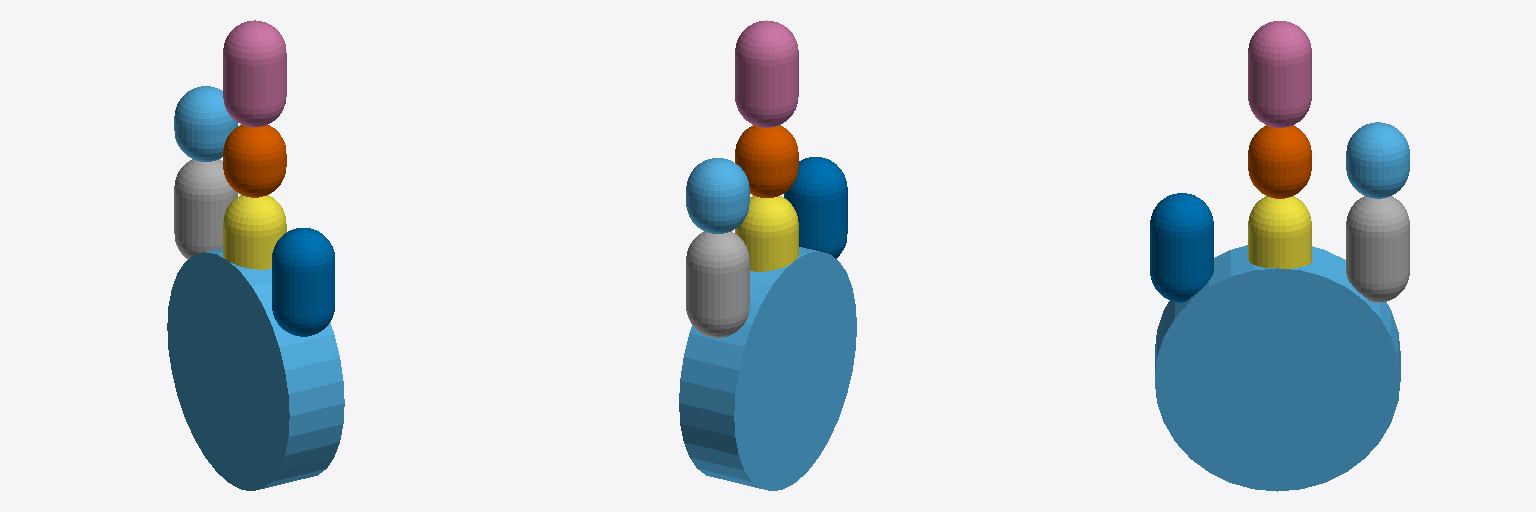
URDF robot description (DexterousHand):
<?xml version="1.0"?>
<robot name="DexterousHand">


    <link name="world"/>
    <joint name="world_to_palm" type="fixed">
        <parent link="world"/>
        <child link="palm"/>
        <origin xyz="0 0 0" rpy="0 0 0"/>
    </joint>
    <link name="palm">
        <inertial>
            <origin xyz="0 0 0.057" rpy="0 0 0"/>
            <mass value="0.30212892864"/>
            <inertia ixx="0.00049080844457568" ixy="0.0" ixz="0.0" iyy="0.00026746366246427523" iyz="0.0" izz="0.00026746366246427523"/>
        </inertial>
        <visual>
            <origin xyz="0 0 0.057" rpy="1.5708 0 1.5708"/>
            <geometry>
                <cylinder radius="0.057" length="0.0296"/>
            </geometry>
            <material name="default"/>
        </visual>
        <collision>
            <origin xyz="0 0 0.057" rpy="1.5708 0 1.5708"/>
            <geometry>
                <cylinder radius="0.057" length="0.0296"/>
            </geometry>
        </collision>
    </link>

    
    <joint name="thumb_joint1" type="revolute">
        <parent link="palm"/>
        <child link="thumb_base"/>
        <origin xyz="0.0 0.0 0.0" rpy="0.0 0.0 0.0"/>
        <axis xyz="1 0 0"/>
        <limit lower="0.0" upper="0.0" effort="1.0" velocity="1.0"/>
    </joint>

    <link name="thumb_base"></link>

    <joint name="thumb_joint2" type="revolute">
        <parent link="thumb_base"/>
        <child link="thumb_proximal"/>
        <origin xyz="0.0 0.0 0.0" rpy="0.0 0.0 0.0"/>
        <axis xyz="0 1 0"/>
        <limit lower="0.0" upper="0.0" effort="1.0" velocity="1.0"/>
    </joint>

    <link name="thumb_proximal">
    </link>

    <joint name="thumb_joint3" type="revolute">
        <parent link="thumb_proximal"/>
        <child link="thumb_knuckle"/>
        <origin xyz="0.0 0.0 0.0" rpy="0.0 0.0 0.0"/>
        <axis xyz="1 0 0"/>
        <limit lower="0.0" upper="0.0" effort="1.0" velocity="1.0"/>
    </joint>

    <link name="thumb_knuckle"></link>

    <joint name="thumb_joint4" type="revolute">
        <parent link="thumb_knuckle"/>
        <child link="thumb_middle"/>
        <origin xyz="0 0 0" rpy="0 0 0"/> 
        <axis xyz="0 1 0"/>
        <limit lower="0.0" upper="0.0" effort="1.0" velocity="1.0"/>
    </joint>

    <link name="thumb_middle">
    </link>

    <joint name="thumb_joint5" type="revolute">
        <parent link="thumb_middle"/>
        <child link="thumb_distal"/>
        <origin xyz="0 0 0" rpy="0 0 0"/> 
        <axis xyz="0 1 0"/>
        <limit lower="0.0" upper="0.0" effort="1.0" velocity="1.0"/>
    </joint>

    <link name="thumb_distal">
    </link>

    
    <joint name="index_joint1" type="revolute">
        <parent link="palm"/>
        <child link="index_proximal"/>
        <origin xyz="0.0 0.0465 0.091" rpy="0.0 0.0 0.0"/>
        <axis xyz="0 1 0"/>
        <limit lower="-0.314" upper="2.23" effort="1.0" velocity="1.0"/>
    </joint>

    <link name="index_proximal">
        <inertial>
            <origin xyz="0 0 0.02655" rpy="0 0 0"/>
            <mass value="0.036540024998400006"/>
            <inertia ixx="1.058665009272394e-05" ixy="0.0" ixz="0.0" 
            iyy="1.058665009272394e-05" iyz="0.0" izz="4.001863537824769e-06"/>
        </inertial>
        <visual>
            <origin xyz="0 0 0.02655" rpy="0 0 0"/>
            <geometry>
                <cylinder radius="0.0148" length="0.0235"/>
            </geometry>
            <material name="default"/>
        </visual>
        <visual>
            <origin xyz="0 0 0.0148" rpy="0 0 0"/>
            <geometry>
                <sphere radius="0.0148"/>
            </geometry>
            <material name="default"/>
        </visual>
        <visual>
            <origin xyz="0 0 0.0383" rpy="0 0 0"/>
            <geometry>
                <sphere radius="0.0148"/>
            </geometry>
            <material name="default"/>
        </visual>
        <collision>
            <origin xyz="0 0 0.02655" rpy="0 0 0"/>
            <geometry>
                <cylinder radius="0.0148" length="0.0235"/>
            </geometry>
        </collision>
        <collision>
            <origin xyz="0 0 0.0148" rpy="0 0 0"/>
            <geometry>
                <sphere radius="0.0148"/>
            </geometry>
        </collision>
        <collision>
            <origin xyz="0 0 0.0383" rpy="0 0 0"/>
            <geometry>
                <sphere radius="0.0148"/>
            </geometry>
        </collision>
    </link>

    <joint name="index_joint2" type="revolute">
        <parent link="index_proximal"/>
        <child link="index_dummy"/>
        <origin xyz="0.0 0.0 0.038" rpy="0.0 0.0 0.0"/>
        <axis xyz="1 0 0"/>
        <limit lower="-1.047" upper="1.047" effort="1.0" velocity="1.0"/>
    </joint>

    <link name="index_dummy"></link>

    <joint name="index_joint3" type="revolute">
        <parent link="index_dummy"/>
        <child link="index_middle"/>
        <origin xyz="0 0 0.015100000000000002" rpy="0 0 0"/>
        <axis xyz="0 1 0"/>
        <limit lower="-0.506" upper="1.885" effort="1.0" velocity="1.0"/>
    </joint>

    <link name="index_middle">
        <inertial>
            <origin xyz="0 0 0.01805" rpy="0 0 0"/>
            <mass value="0.0248417119104"/>
            <inertia ixx="4.058162759109537e-06" ixy="0.0" ixz="0.0" 
            iyy="4.058162759109537e-06" iyz="0.0" izz="2.7206642884270085e-06"/>
        </inertial>
        <visual>
            <origin xyz="0 0 0.01805" rpy="0 0 0"/>
            <geometry>
                <cylinder radius="0.0148" length="0.006499999999999999"/>
            </geometry>
            <material name="default"/>
        </visual>
        <visual>
            <origin xyz="0 0 0.0148" rpy="0 0 0"/>
            <geometry>
                <sphere radius="0.0148"/>
            </geometry>
            <material name="default"/>
        </visual>
        <visual>
            <origin xyz="0 0 0.0213" rpy="0 0 0"/>
            <geometry>
                <sphere radius="0.0148"/>
            </geometry>
            <material name="default"/>
        </visual>
        <collision>
            <origin xyz="0 0 0.01805" rpy="0 0 0"/>
            <geometry>
                <cylinder radius="0.0148" length="0.006499999999999999"/>
            </geometry>
        </collision>
        <collision>
            <origin xyz="0 0 0.0148" rpy="0 0 0"/>
            <geometry>
                <sphere radius="0.0148"/>
            </geometry>
        </collision>
        <collision>
            <origin xyz="0 0 0.0213" rpy="0 0 0"/>
            <geometry>
                <sphere radius="0.0148"/>
            </geometry>
        </collision>
    </link>

    <joint name="index_joint4" type="revolute">
        <parent link="index_middle"/>
        <child link="index_distal"/>
        <origin xyz="0 0 0.0361" rpy="0 0 0"/> 
        <axis xyz="0 1 0"/>
        <limit lower="0.0" upper="0.0" effort="1.0" velocity="1.0"/>
    </joint>

    <link name="index_distal">
    </link>

    
    <joint name="middle_joint1" type="revolute">
        <parent link="palm"/>
        <child link="middle_proximal"/>
        <origin xyz="0.0 0.0011 0.091" rpy="0.0 0.0 0.0"/>
        <axis xyz="0 1 0"/>
        <limit lower="-0.314" upper="2.23" effort="1.0" velocity="1.0"/>
    </joint>

    <link name="middle_proximal">
        <inertial>
            <origin xyz="0 0 0.02655" rpy="0 0 0"/>
            <mass value="0.036540024998400006"/>
            <inertia ixx="1.058665009272394e-05" ixy="0.0" ixz="0.0" 
            iyy="1.058665009272394e-05" iyz="0.0" izz="4.001863537824769e-06"/>
        </inertial>
        <visual>
            <origin xyz="0 0 0.02655" rpy="0 0 0"/>
            <geometry>
                <cylinder radius="0.0148" length="0.0235"/>
            </geometry>
            <material name="default"/>
        </visual>
        <visual>
            <origin xyz="0 0 0.0148" rpy="0 0 0"/>
            <geometry>
                <sphere radius="0.0148"/>
            </geometry>
            <material name="default"/>
        </visual>
        <visual>
            <origin xyz="0 0 0.0383" rpy="0 0 0"/>
            <geometry>
                <sphere radius="0.0148"/>
            </geometry>
            <material name="default"/>
        </visual>
        <collision>
            <origin xyz="0 0 0.02655" rpy="0 0 0"/>
            <geometry>
                <cylinder radius="0.0148" length="0.0235"/>
            </geometry>
        </collision>
        <collision>
            <origin xyz="0 0 0.0148" rpy="0 0 0"/>
            <geometry>
                <sphere radius="0.0148"/>
            </geometry>
        </collision>
        <collision>
            <origin xyz="0 0 0.0383" rpy="0 0 0"/>
            <geometry>
                <sphere radius="0.0148"/>
            </geometry>
        </collision>
    </link>

    <joint name="middle_joint2" type="revolute">
        <parent link="middle_proximal"/>
        <child link="middle_dummy"/>
        <origin xyz="0.0 0.0 0.038" rpy="0.0 0.0 0.0"/>
        <axis xyz="1 0 0"/>
        <limit lower="-1.047" upper="1.047" effort="1.0" velocity="1.0"/>
    </joint>

    <link name="middle_dummy"></link>

    <joint name="middle_joint3" type="revolute">
        <parent link="middle_dummy"/>
        <child link="middle_middle"/>
        <origin xyz="0 0 0.015100000000000002" rpy="0 0 0"/>
        <axis xyz="0 1 0"/>
        <limit lower="-0.506" upper="1.885" effort="1.0" velocity="1.0"/>
    </joint>

    <link name="middle_middle">
        <inertial>
            <origin xyz="0 0 0.01805" rpy="0 0 0"/>
            <mass value="0.0248417119104"/>
            <inertia ixx="4.058162759109537e-06" ixy="0.0" ixz="0.0" 
            iyy="4.058162759109537e-06" iyz="0.0" izz="2.7206642884270085e-06"/>
        </inertial>
        <visual>
            <origin xyz="0 0 0.01805" rpy="0 0 0"/>
            <geometry>
                <cylinder radius="0.0148" length="0.006499999999999999"/>
            </geometry>
            <material name="default"/>
        </visual>
        <visual>
            <origin xyz="0 0 0.0148" rpy="0 0 0"/>
            <geometry>
                <sphere radius="0.0148"/>
            </geometry>
            <material name="default"/>
        </visual>
        <visual>
            <origin xyz="0 0 0.0213" rpy="0 0 0"/>
            <geometry>
                <sphere radius="0.0148"/>
            </geometry>
            <material name="default"/>
        </visual>
        <collision>
            <origin xyz="0 0 0.01805" rpy="0 0 0"/>
            <geometry>
                <cylinder radius="0.0148" length="0.006499999999999999"/>
            </geometry>
        </collision>
        <collision>
            <origin xyz="0 0 0.0148" rpy="0 0 0"/>
            <geometry>
                <sphere radius="0.0148"/>
            </geometry>
        </collision>
        <collision>
            <origin xyz="0 0 0.0213" rpy="0 0 0"/>
            <geometry>
                <sphere radius="0.0148"/>
            </geometry>
        </collision>
    </link>

    <joint name="middle_joint4" type="revolute">
        <parent link="middle_middle"/>
        <child link="middle_distal"/>
        <origin xyz="0 0 0.0361" rpy="0 0 0"/> 
        <axis xyz="0 1 0"/>
        <limit lower="-0.366" upper="2.042" effort="1.0" velocity="1.0"/>
    </joint>

    <link name="middle_distal">
        <inertial>
            <origin xyz="0 0 0.026" rpy="0 0 0"/>
            <mass value="0.035783075328"/>
            <inertia ixx="1.002260084553728e-05" ixy="0.0" ixz="0.0" 
            iyy="1.002260084553728e-05" iyz="0.0" izz="3.91896240992256e-06"/>
        </inertial>
        <visual>
            <origin xyz="0 0 0.026" rpy="0 0 0"/>
            <geometry>
                <cylinder radius="0.0148" length="0.022399999999999996"/>
            </geometry>
            <material name="default"/>
        </visual>
        <visual>
            <origin xyz="0 0 0.0148" rpy="0 0 0"/>
            <geometry>
                <sphere radius="0.0148"/>
            </geometry>
            <material name="default"/>
        </visual>
        <visual>
            <origin xyz="0 0 0.0372" rpy="0 0 0"/>
            <geometry>
                <sphere radius="0.0148"/>
            </geometry>
            <material name="default"/>
        </visual>
        <collision>
            <origin xyz="0 0 0.026" rpy="0 0 0"/>
            <geometry>
                <cylinder radius="0.0148" length="0.022399999999999996"/>
            </geometry>
        </collision>
        <collision>
            <origin xyz="0 0 0.0148" rpy="0 0 0"/>
            <geometry>
                <sphere radius="0.0148"/>
            </geometry>
        </collision>
        <collision>
            <origin xyz="0 0 0.0372" rpy="0 0 0"/>
            <geometry>
                <sphere radius="0.0148"/>
            </geometry>
        </collision>
    </link>

    
    <joint name="ring_joint1" type="revolute">
        <parent link="palm"/>
        <child link="ring_proximal"/>
        <origin xyz="0.0 0.0 0.0" rpy="0.0 0.0 0.0"/>
        <axis xyz="1 0 0"/>
        <limit lower="0.0" upper="0.0" effort="1.0" velocity="1.0"/>
    </joint>

    <link name="ring_proximal">
    </link>

    <joint name="ring_joint2" type="revolute">
        <parent link="ring_proximal"/>
        <child link="ring_dummy"/>
        <origin xyz="0.0 0.0 0.0" rpy="0.0 0.0 0.0"/>
        <axis xyz="0 1 0"/>
        <limit lower="0.0" upper="0.0" effort="1.0" velocity="1.0"/>
    </joint>

    <link name="ring_dummy"></link>

    <joint name="ring_joint3" type="revolute">
        <parent link="ring_dummy"/>
        <child link="ring_middle"/>
        <origin xyz="0 0 0" rpy="0 0 0"/>
        <axis xyz="0 1 0"/>
        <limit lower="0.0" upper="0.0" effort="1.0" velocity="1.0"/>
    </joint>

    <link name="ring_middle">
    </link>

    <joint name="ring_joint4" type="revolute">
        <parent link="ring_middle"/>
        <child link="ring_distal"/>
        <origin xyz="0 0 0" rpy="0 0 0"/> 
        <axis xyz="0 1 0"/>
        <limit lower="0.0" upper="0.0" effort="1.0" velocity="1.0"/>
    </joint>

    <link name="ring_distal">
    </link>

    
    <joint name="little_joint0" type="revolute">
        <parent link="palm"/>
        <child link="little_base"/>
        <origin xyz="0.0 0.0 0.0" rpy="0.0 0.0 0.0"/>
        <axis xyz="0 1 0"/>
        <limit lower="0.0" upper="0.0" effort="1.0" velocity="1.0"/>
    </joint>

    <link name="little_base"></link>

    <joint name="little_joint1" type="revolute">
        <parent link="little_base"/>
        <child link="little_proximal"/>
        <origin xyz="0.0 -0.0443 0.091" rpy="-0.0 -0.0 -0.0"/>
        <axis xyz="0 1 0"/>
        <limit lower="-0.314" upper="2.23" effort="1.0" velocity="1.0"/>
    </joint>

    <link name="little_proximal">
        <inertial>
            <origin xyz="0 0 0.02655" rpy="0 0 0"/>
            <mass value="0.036540024998400006"/>
            <inertia ixx="1.058665009272394e-05" ixy="0.0" ixz="0.0" 
            iyy="1.058665009272394e-05" iyz="0.0" izz="4.001863537824769e-06"/>
        </inertial>
        <visual>
            <origin xyz="0 0 0.02655" rpy="0 0 0"/>
            <geometry>
                <cylinder radius="0.0148" length="0.0235"/>
            </geometry>
            <material name="default"/>
        </visual>
        <visual>
            <origin xyz="0 0 0.0148" rpy="0 0 0"/>
            <geometry>
                <sphere radius="0.0148"/>
            </geometry>
            <material name="default"/>
        </visual>
        <visual>
            <origin xyz="0 0 0.0383" rpy="0 0 0"/>
            <geometry>
                <sphere radius="0.0148"/>
            </geometry>
            <material name="default"/>
        </visual>
        <collision>
            <origin xyz="0 0 0.02655" rpy="0 0 0"/>
            <geometry>
                <cylinder radius="0.0148" length="0.0235"/>
            </geometry>
        </collision>
        <collision>
            <origin xyz="0 0 0.0148" rpy="0 0 0"/>
            <geometry>
                <sphere radius="0.0148"/>
            </geometry>
        </collision>
        <collision>
            <origin xyz="0 0 0.0383" rpy="0 0 0"/>
            <geometry>
                <sphere radius="0.0148"/>
            </geometry>
        </collision>
    </link>

    <joint name="little_joint2" type="revolute">
        <parent link="little_proximal"/>
        <child link="little_dummy"/>
        <origin xyz="0.0 0.0 0.038" rpy="0.0 0.0 0.0"/>
        <axis xyz="0 1 0"/>
        <limit lower="0.0" upper="0.0" effort="1.0" velocity="1.0"/>
    </joint>

    <link name="little_dummy"></link>

    <joint name="little_joint3" type="revolute">
        <parent link="little_dummy"/>
        <child link="little_middle"/>
        <origin xyz="0 0 0.015100000000000002" rpy="0 0 0"/>
        <axis xyz="0 1 0"/>
        <limit lower="0.0" upper="0.0" effort="1.0" velocity="1.0"/>
    </joint>

    <link name="little_middle">
    </link>

    <joint name="little_joint4" type="revolute">
        <parent link="little_middle"/>
        <child link="little_distal"/>
        <origin xyz="0 0 0" rpy="0 0 0"/>
        <axis xyz="0 1 0"/>
        <limit lower="0.0" upper="0.0" effort="1.0" velocity="1.0"/>
    </joint>

    <link name="little_distal">
    </link>

</robot>

--- Render facts (derived) ---
Views: 3 orthographic renders of the robot side by side, from view 1: azimuth 30°, elevation 25°; view 2: azimuth 150°, elevation 25°; view 3: azimuth 270°, elevation 25°.
Robot: DexterousHand — 24 links, 23 joints (22 revolute, 1 fixed); root link world; default pose: all joints at 0.
Links seen in each view (by area): view 1: palm, little_proximal, middle_distal, index_proximal, middle_middle, middle_proximal, index_middle; view 2: palm, index_proximal, middle_distal, little_proximal, index_middle, middle_middle, middle_proximal; view 3: palm, middle_distal, little_proximal, index_proximal, middle_proximal, index_middle, middle_middle.
Link boxes in pixels (<box>): palm: <box>167,248,344,490</box>; little_proximal: <box>272,228,334,336</box>; middle_distal: <box>223,20,286,127</box>; index_proximal: <box>174,159,237,258</box>; middle_middle: <box>223,125,286,197</box>; middle_proximal: <box>223,195,286,269</box>; index_middle: <box>174,86,237,161</box>; palm: <box>679,247,856,490</box>; index_proximal: <box>686,231,749,337</box>; middle_distal: <box>735,20,798,127</box>; little_proximal: <box>784,157,847,258</box>; index_middle: <box>686,158,749,233</box>; middle_middle: <box>735,125,798,197</box>; middle_proximal: <box>735,196,798,271</box>; palm: <box>1155,245,1400,491</box>; middle_distal: <box>1248,21,1311,127</box>; little_proximal: <box>1150,193,1213,302</box>; index_proximal: <box>1346,196,1409,302</box>; middle_proximal: <box>1248,196,1311,268</box>; index_middle: <box>1346,122,1409,198</box>; middle_middle: <box>1248,125,1311,198</box>.
Bounding box of the posed robot: 0.0296 × 0.1204 × 0.2322 m (x, y, z).
Geometry: primitives only (box / cylinder / sphere), no mesh files.
